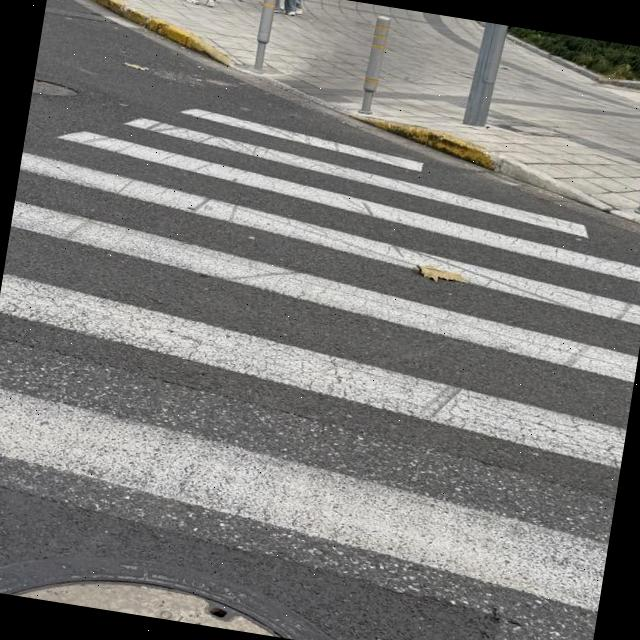curb: (315, 100, 620, 216), (91, 0, 259, 75), (511, 38, 640, 90)
